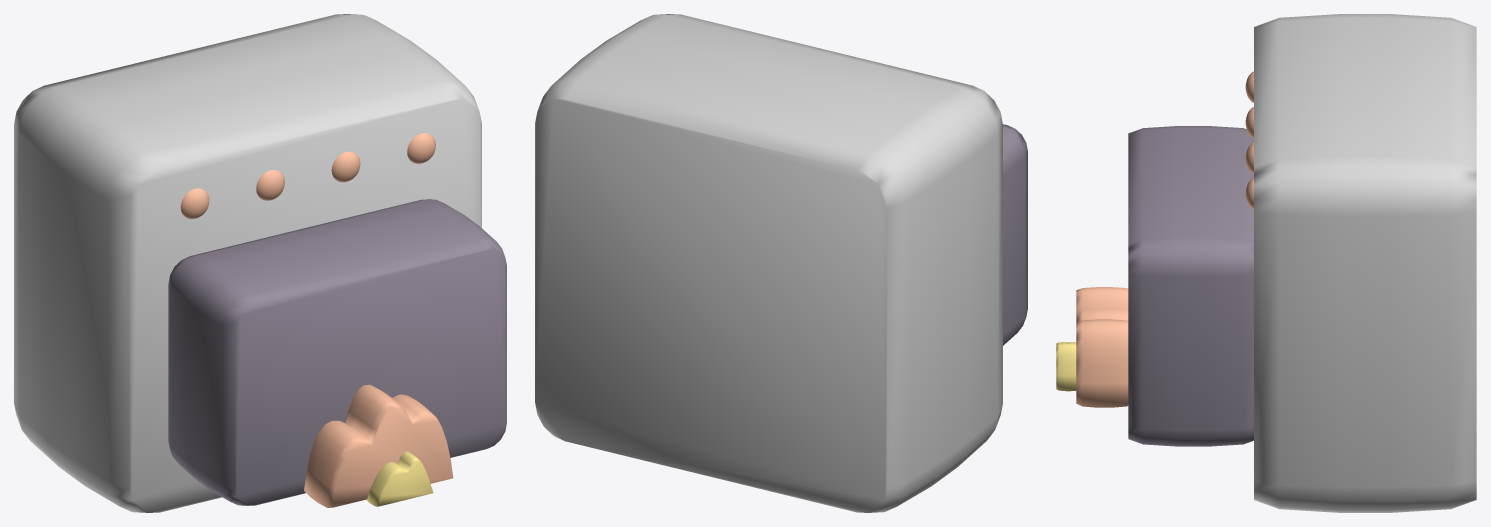
Rendered from decor_1_classic.glb.
3 renders of one model, left to right at view 1: azimuth 30°, elevation 25°; view 2: azimuth 150°, elevation 25°; view 3: azimuth 270°, elevation 25°, orthographic. The views are drawn at different scales.
Parts seen in each view (by area): view 1: decor_1_classic; view 2: decor_1_classic; view 3: decor_1_classic.
Boxes of the visible parts, box(x1,y1,x2,y2) form: decor_1_classic: box(14, 14, 506, 512); decor_1_classic: box(535, 14, 1027, 512); decor_1_classic: box(1056, 14, 1476, 512).
Size of the model in its own units: 14.91 by 13.91 by 15.02.
